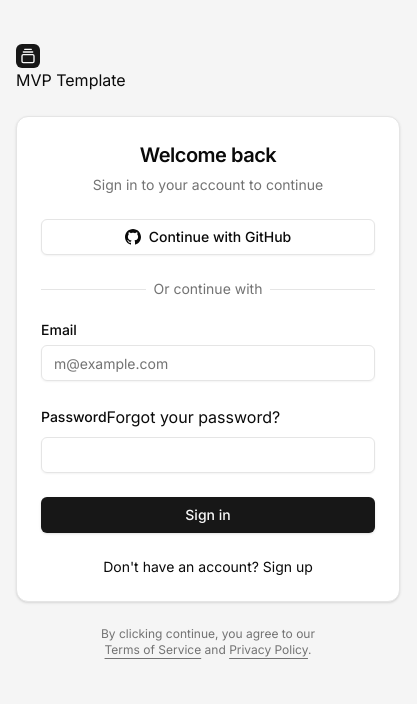
Test: SignInPage › shows validation errors for empty fields
Click the button "Sign in" at (208, 515), box [41,497,375,533]
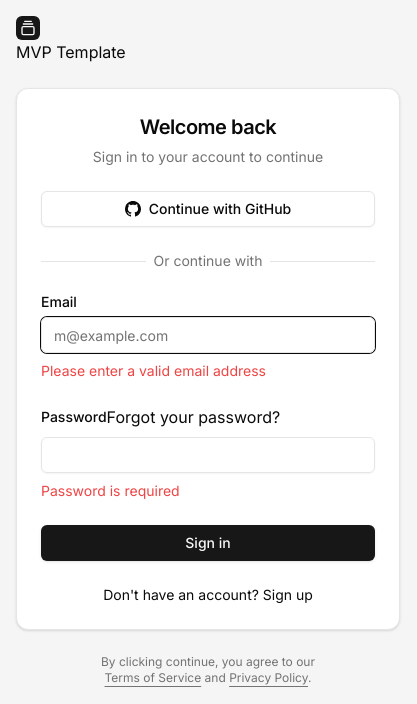
Result: the text "Please enter a valid email address" is shown at [41,362,266,379]
Result: the text "Password is required" is shown at [41,482,180,499]
